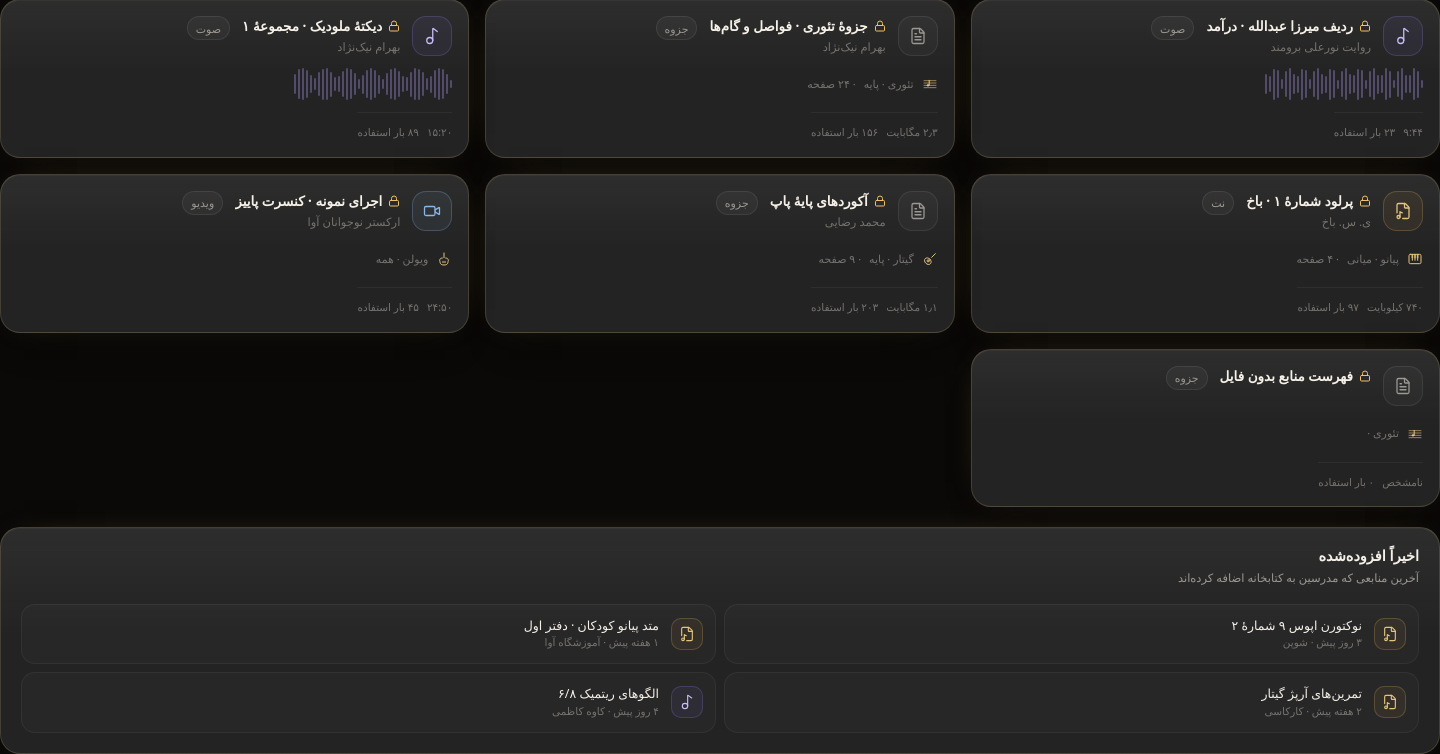
downloading a stored file › offers no download for a catalogue-only record
(page scrolled)
Click the button "فهرست منابع بدون فایل": (1403, 386) [971,349,1439,507]
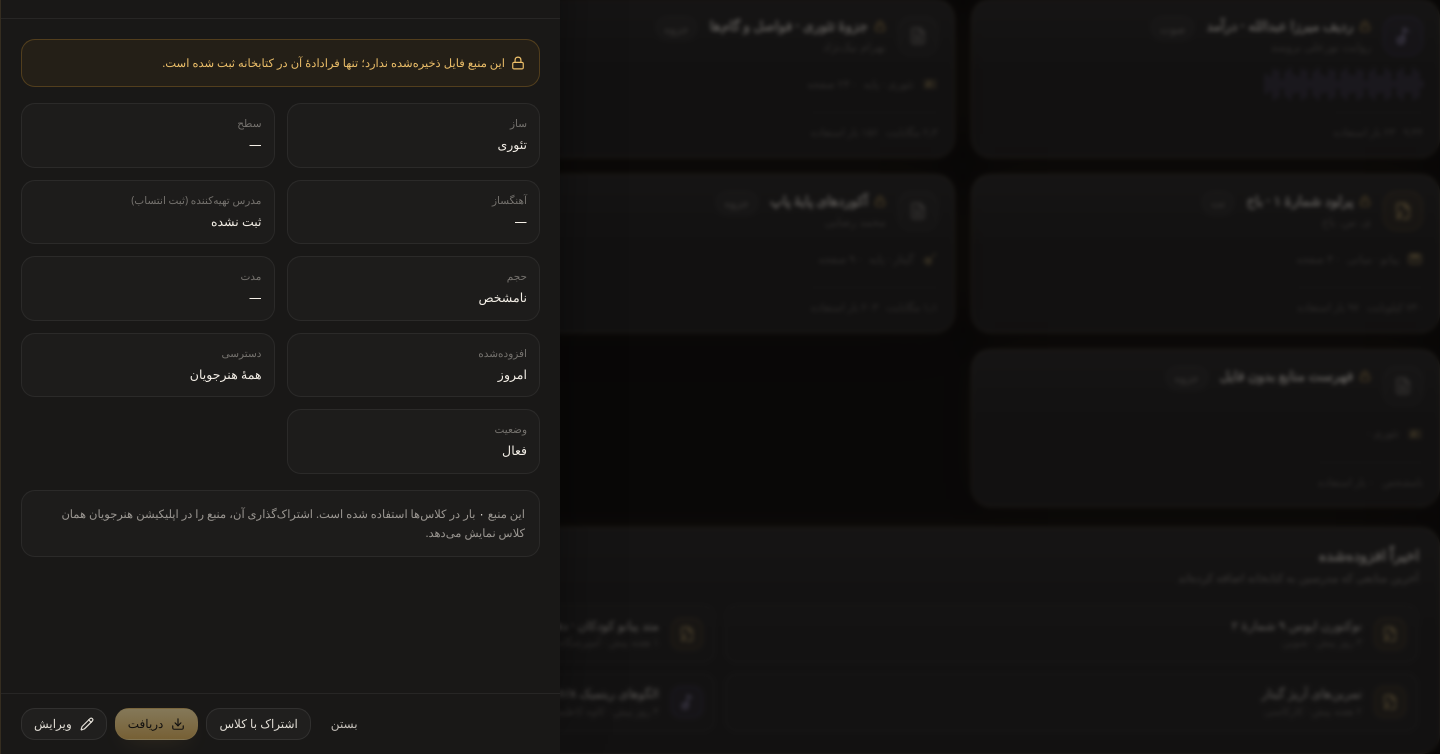
Now the button "دریافت" is disabled, box [115,708,198,740]
Now the text "فایل ذخیره‌شده ندارد" is shown, box [162,55,505,70]
